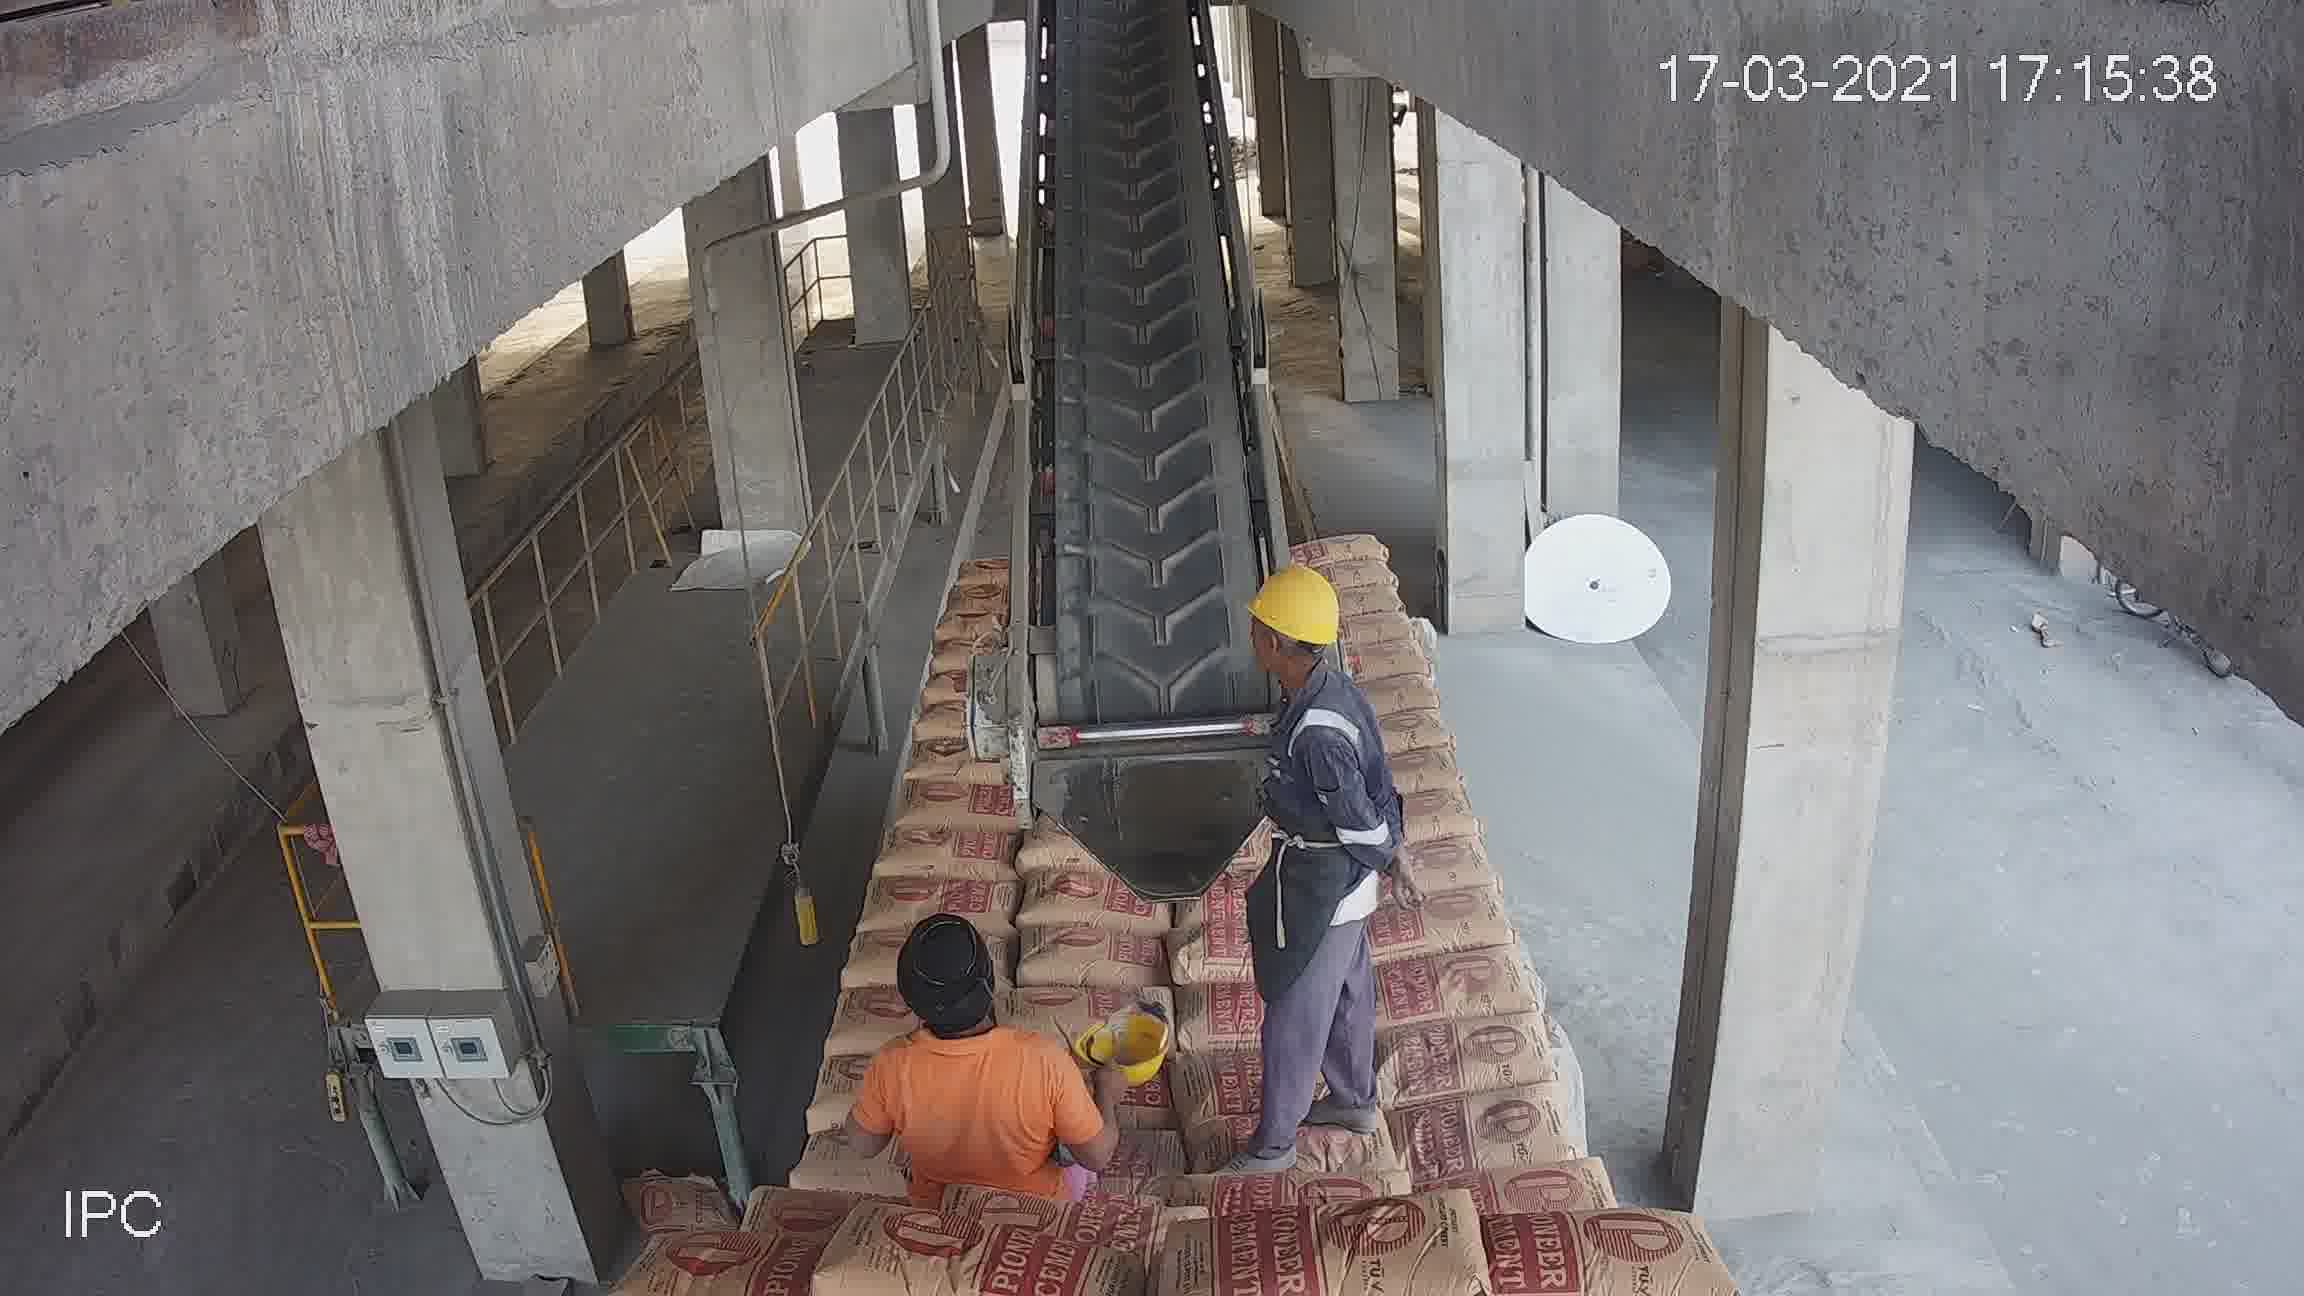bag_h: (1198, 1206, 1524, 1296), (801, 1218, 1116, 1296), (1440, 1199, 1700, 1291), (1407, 1078, 1600, 1177), (1355, 945, 1546, 1036), (1374, 1014, 1556, 1108), (636, 1223, 855, 1294), (1021, 915, 1171, 1002), (1361, 889, 1511, 968), (1182, 1173, 1402, 1222), (1435, 1160, 1606, 1222), (1008, 975, 1157, 1041), (859, 869, 1029, 926), (869, 828, 1024, 888), (1389, 836, 1495, 896), (908, 777, 1005, 829), (1302, 552, 1415, 597), (1290, 532, 1394, 573), (1321, 582, 1416, 622)
belt: (1022, 55, 1272, 756)
